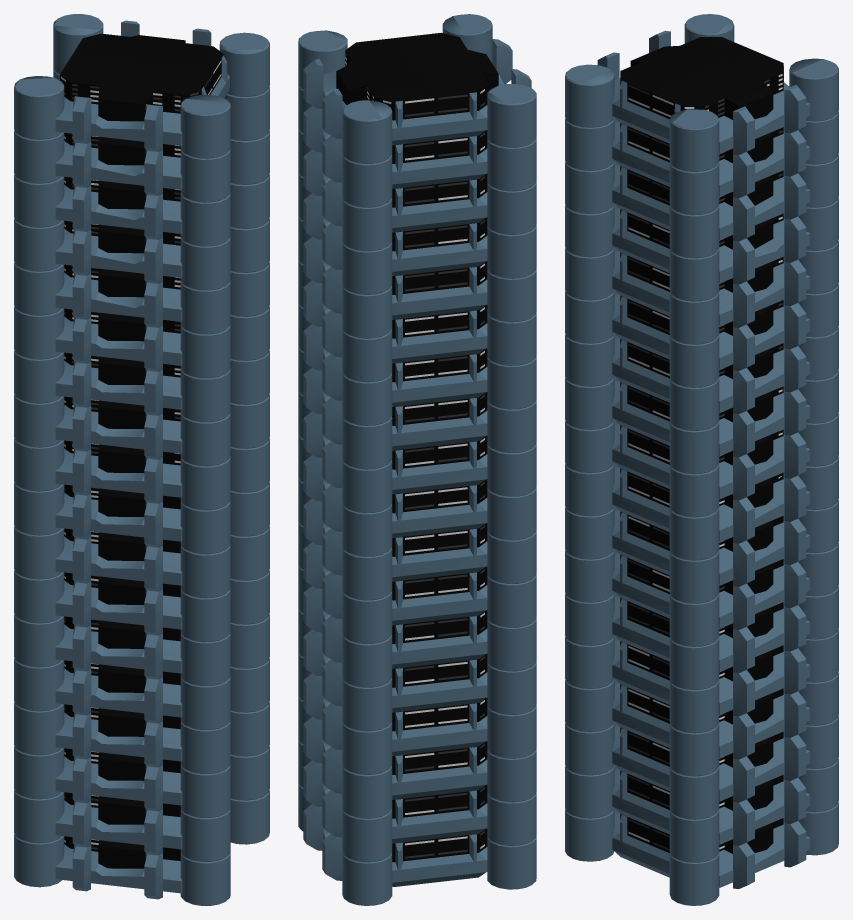
The model's file is building_023.glb.
3 renders of one model, left to right at view 1: azimuth 30°, elevation 25°; view 2: azimuth 150°, elevation 25°; view 3: azimuth 270°, elevation 25°, orthographic.
Parts seen in each view (by area): view 1: building.023; view 2: building.023; view 3: building.023.
Boxes of the visible parts, x1=… form: building.023: x1=14, y1=14, x2=269, y2=905; building.023: x1=298, y1=14, x2=536, y2=905; building.023: x1=565, y1=14, x2=838, y2=905.
Bounding box in the file's own units: 6.36 × 19.91 × 6.36.
